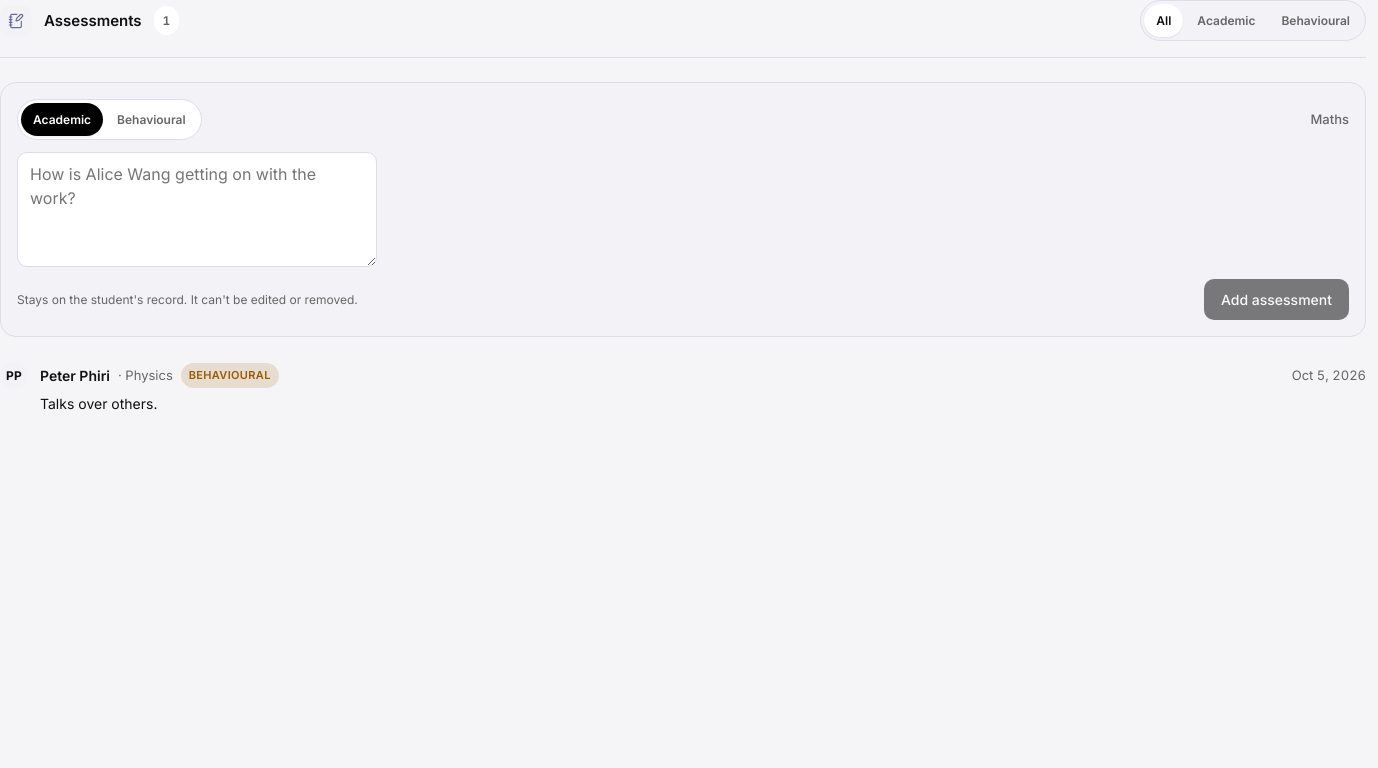
Scenario: StudentAssessments › adds an academic assessment and puts it at the top of the list
Expected: the text "Talks over others." is shown, [40,395,158,412]
Expected: the button "Add assessment" is disabled, [1204,279,1349,320]
Type "Much improved." into the text box named "Comment on Alice Wang". click: (197,210)
box: [17,152,377,267]
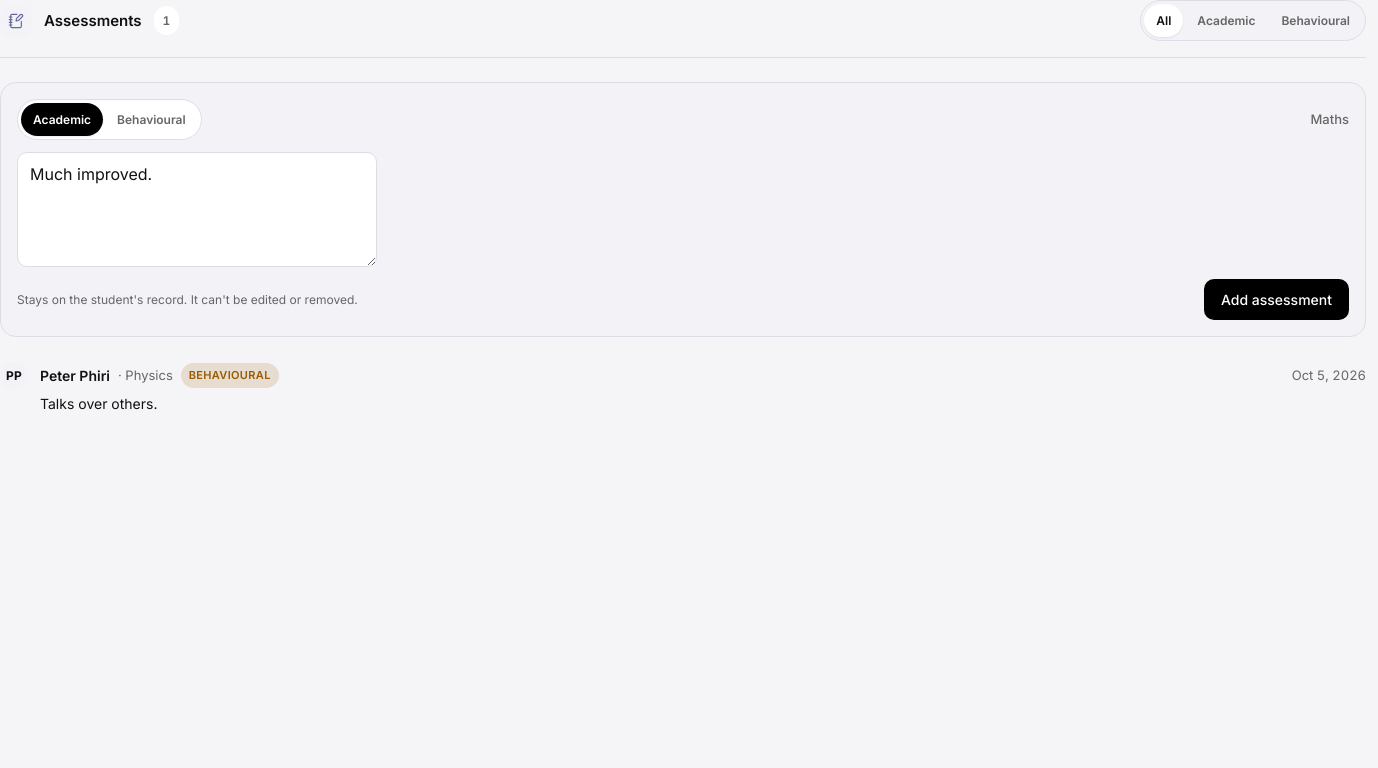
Click the button "Add assessment". click: (1276,300)
box: [1204,279,1349,320]
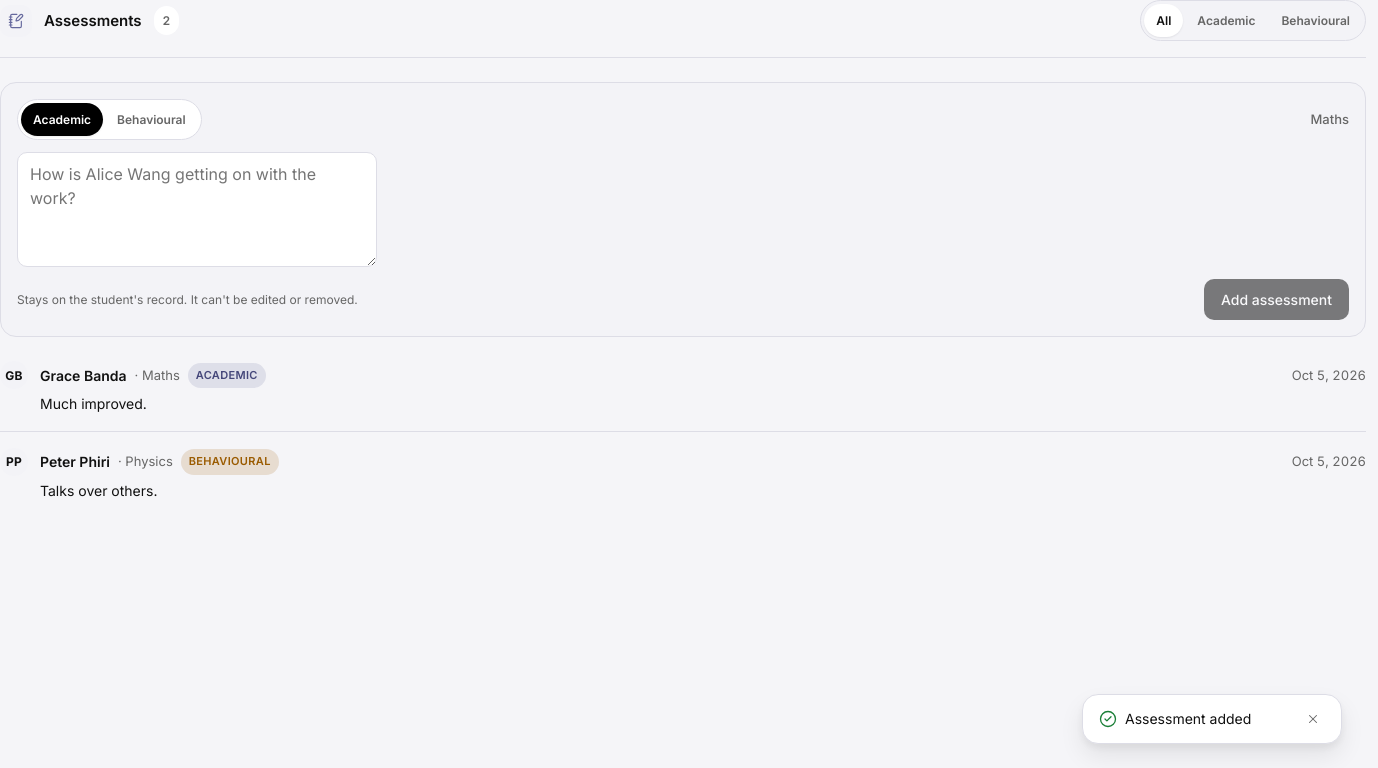
Expected: the text "Much improved." is shown, [40,395,147,412]
Expected: the text box named "Comment on Alice Wang" is empty, [17,152,377,267]
